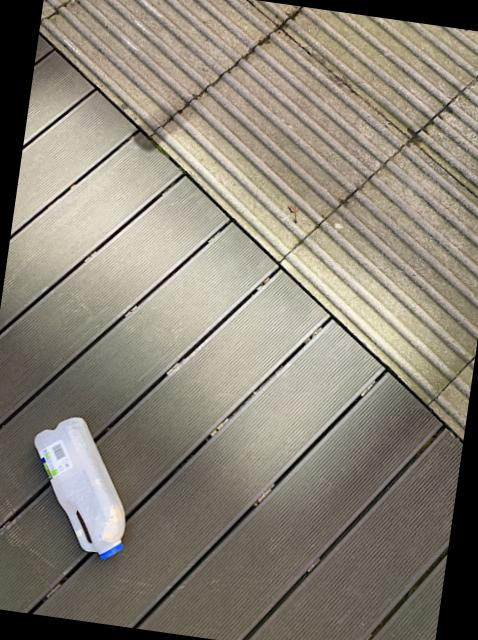plastic: (35, 415, 126, 557)
